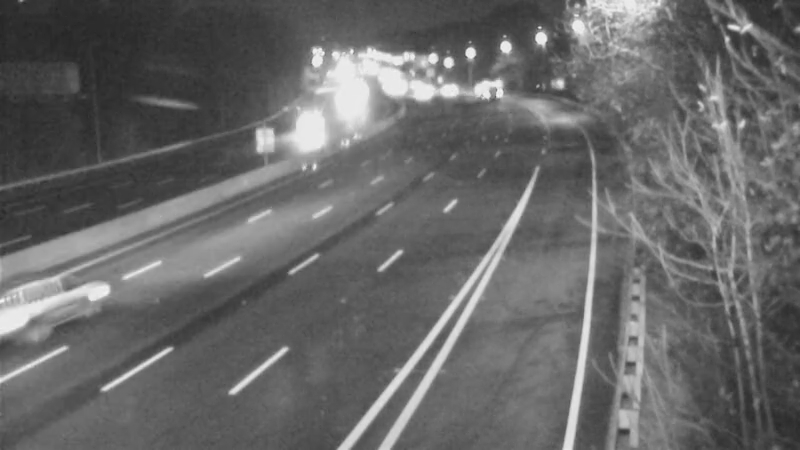vehicle: (1, 265, 88, 375), (462, 65, 512, 115), (278, 109, 328, 159)
